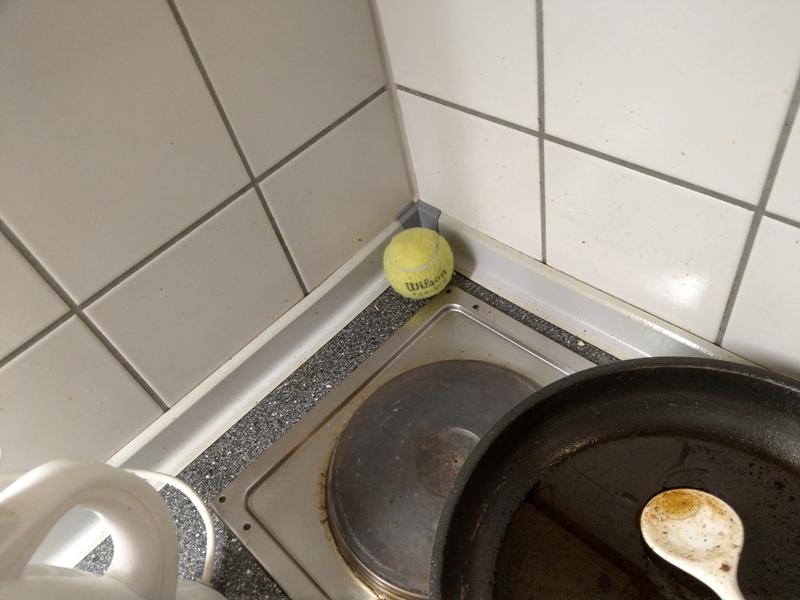Tennisball: (381, 225, 457, 303)
